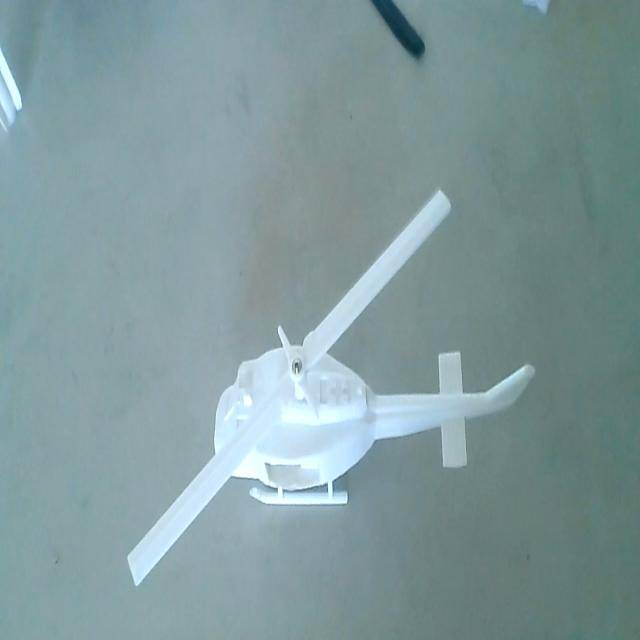Helicopter: (128, 188, 534, 603)
